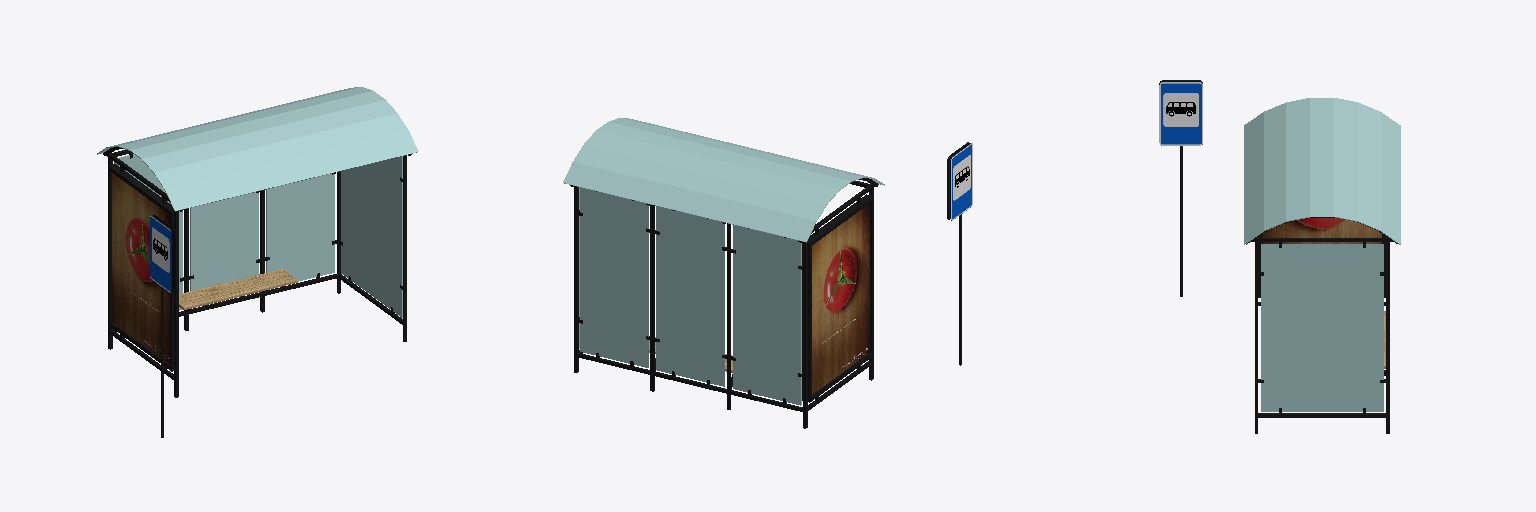
3 renders of one model, left to right at view 1: azimuth 30°, elevation 25°; view 2: azimuth 150°, elevation 25°; view 3: azimuth 270°, elevation 25°, orthographic.
Visible parts, largest first — view 1: default; view 2: default; view 3: default.
Part boxes in pixels (x1,y1,x2,y2): default: (97,87,418,437); default: (563,118,972,428); default: (1159,80,1400,433).
Size of the model in its own units: 150 by 109 by 108.
6 materials, 3 textured.